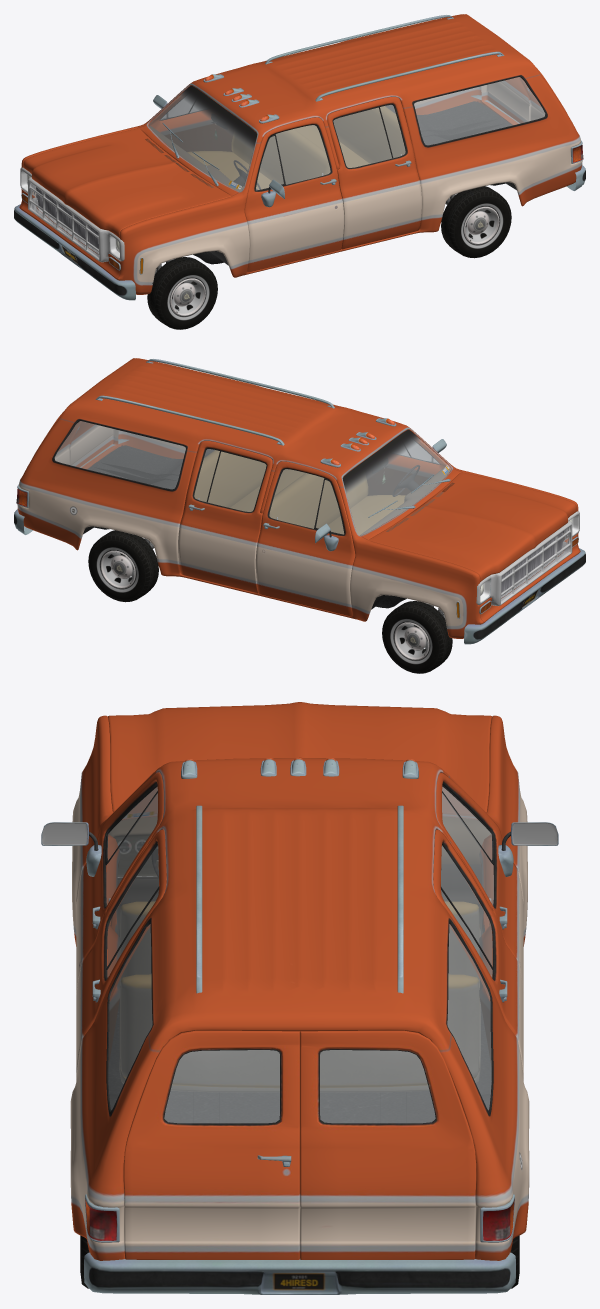
Rendered from Carro Transito 4.glb.
3 renders of one model, top to bottom at view 1: azimuth 30°, elevation 25°; view 2: azimuth 150°, elevation 25°; view 3: azimuth 270°, elevation 25°, orthographic. The views are drawn at different scales.
Parts seen in each view (by area): view 1: body_low.001, hood_low.001, frontdoors_low.001, passdoors_low.001, frontwindow_low.001, windowback_low.001, frontrigthw_low.001, frontgrill_low.001, Passwindows_low.001, seatback_low.002, fronttire_low.002, fronttire_low.003 (+14 smaller); view 2: body_low.001, hood_low.001, frontdoors_low.001, passdoors_low.001, frontwindow_low.001, windowback_low.001, frontrigthw_low.001, frontgrill_low.001, Passwindows_low.001, seatback_low.002, fronttire_low.002, fronttire_low.003 (+14 smaller); view 3: body_low.001, backdoor_low.001, hood_low.001, backdoorwin_low.001, bumperback_low.001, seatback_low.003, windowback_low.001, floor_low.001, passdoors_low.001, frontdoors_low.001, frontrigthw_low.001, Passwindows_low.001 (+11 smaller).
Part boxes in pixels (x1,y1,x2,y2): body_low.001: (19,14,582,294); hood_low.001: (23,128,231,237); frontdoors_low.001: (145,112,344,272); passdoors_low.001: (327,97,421,249); frontwindow_low.001: (148,86,256,191); windowback_low.001: (414,77,545,145); frontrigthw_low.001: (161,99,330,190); frontgrill_low.001: (20,167,124,262); Passwindows_low.001: (333,105,405,167); seatback_low.002: (232,129,330,184); fronttire_low.002: (147,257,217,329); fronttire_low.003: (441,186,511,258); body_low.001: (17,358,580,638); hood_low.001: (368,472,576,581); frontdoors_low.001: (255,461,449,616); passdoors_low.001: (178,441,272,593); frontwindow_low.001: (343,430,451,535); windowback_low.001: (55,421,185,489); frontrigthw_low.001: (269,443,438,534); frontgrill_low.001: (476,511,579,606); Passwindows_low.001: (194,449,266,511); seatback_low.002: (269,473,367,528); fronttire_low.002: (382,601,452,673); fronttire_low.003: (88,530,158,602); body_low.001: (70,715,529,1260); backdoor_low.001: (123,1030,476,1259); hood_low.001: (108,702,491,813); backdoorwin_low.001: (164,1050,435,1123); bumperback_low.001: (84,1252,515,1294); seatback_low.003: (120,974,479,1087); windowback_low.001: (108,924,491,1110); floor_low.001: (108,1001,491,1198); passdoors_low.001: (76,829,523,1076); frontdoors_low.001: (76,773,523,992); frontrigthw_low.001: (106,787,493,905); Passwindows_low.001: (107,845,492,977).
Size of the model in its own units: 4.35 by 1.55 by 2.06.
3 materials, 3 textured.
